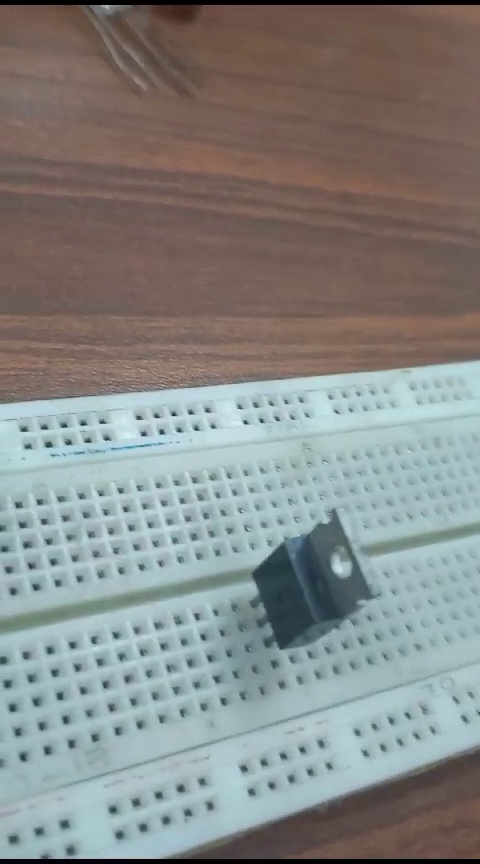voltage regulator: (237, 507, 378, 644)
